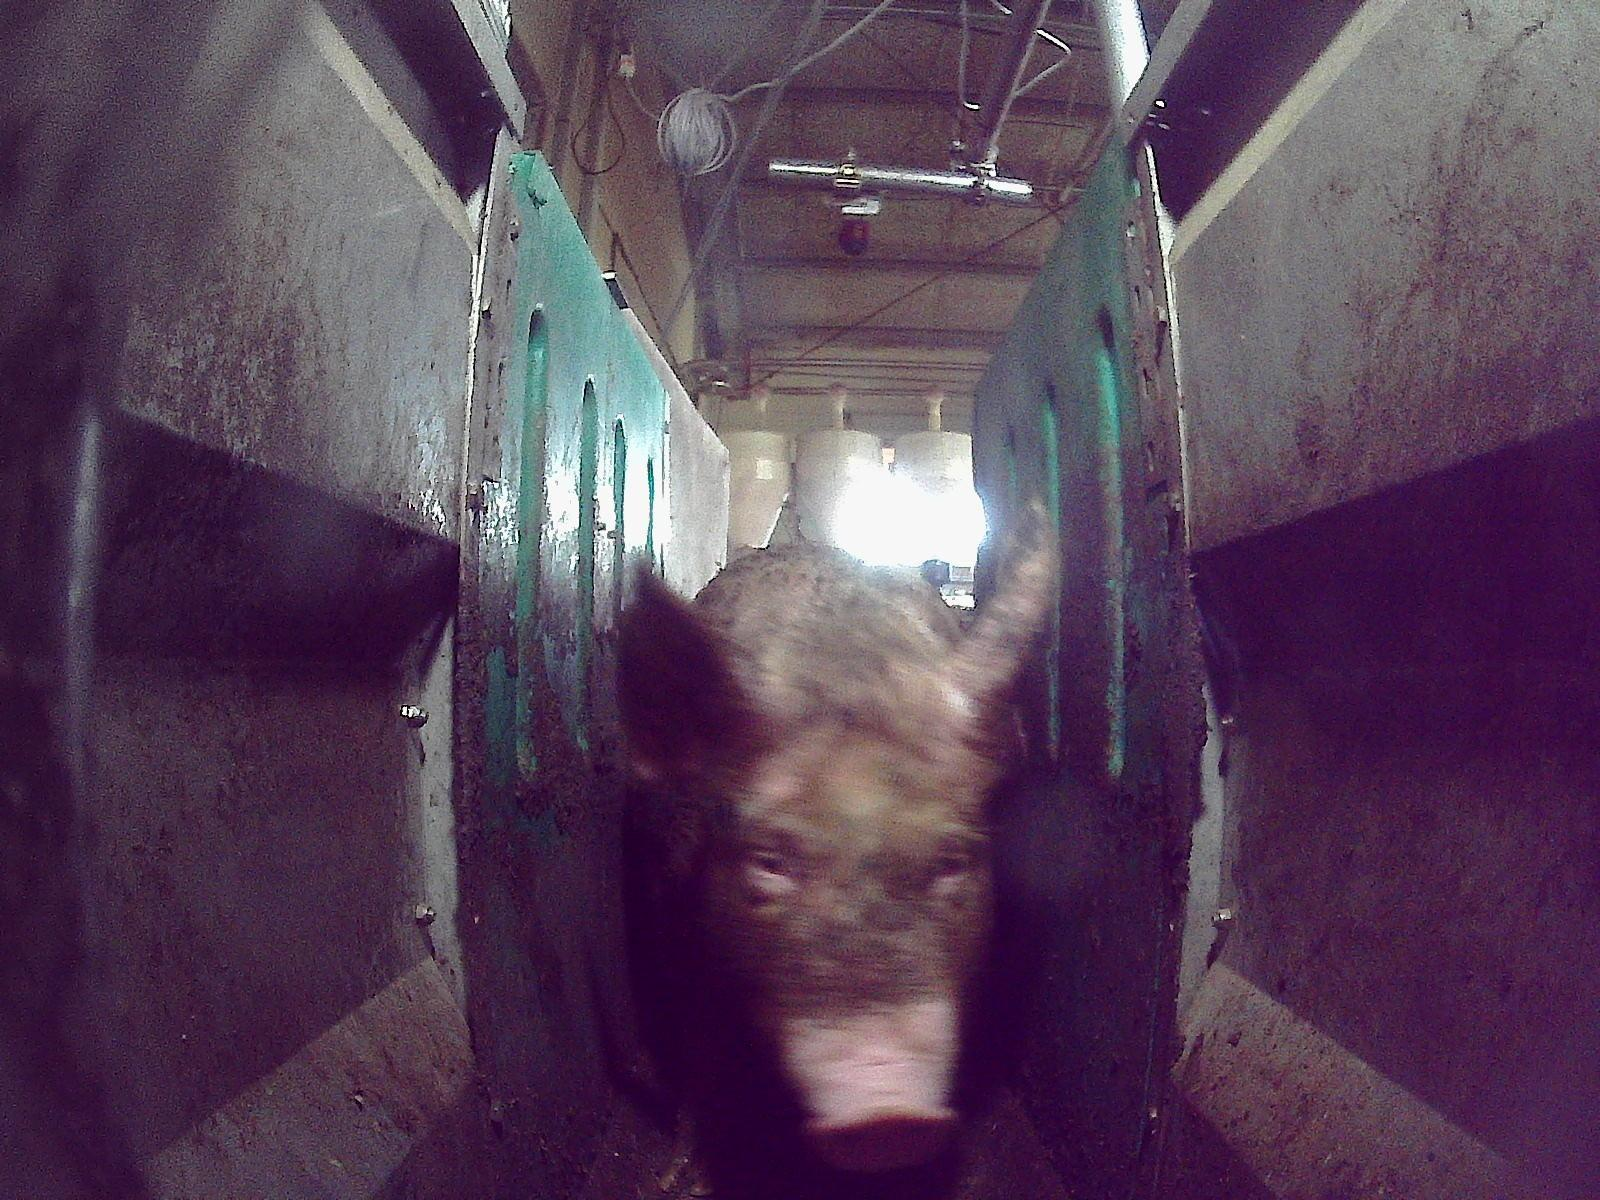Face: (701, 675, 999, 1170)
